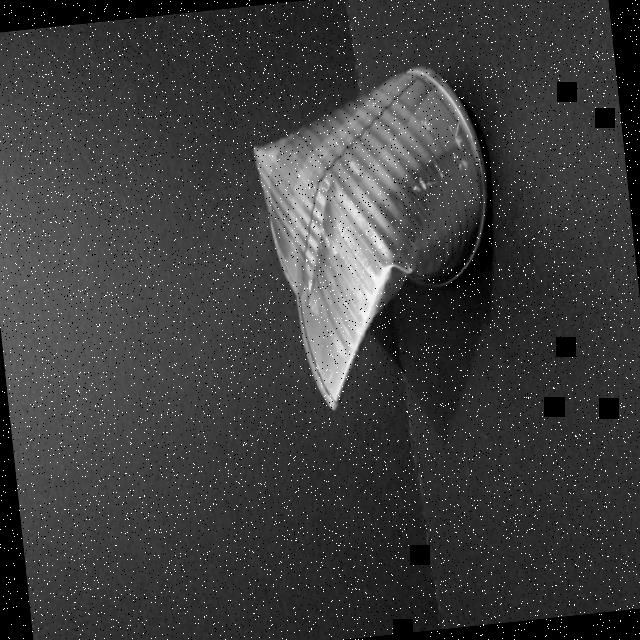can: (240, 59, 512, 418)
